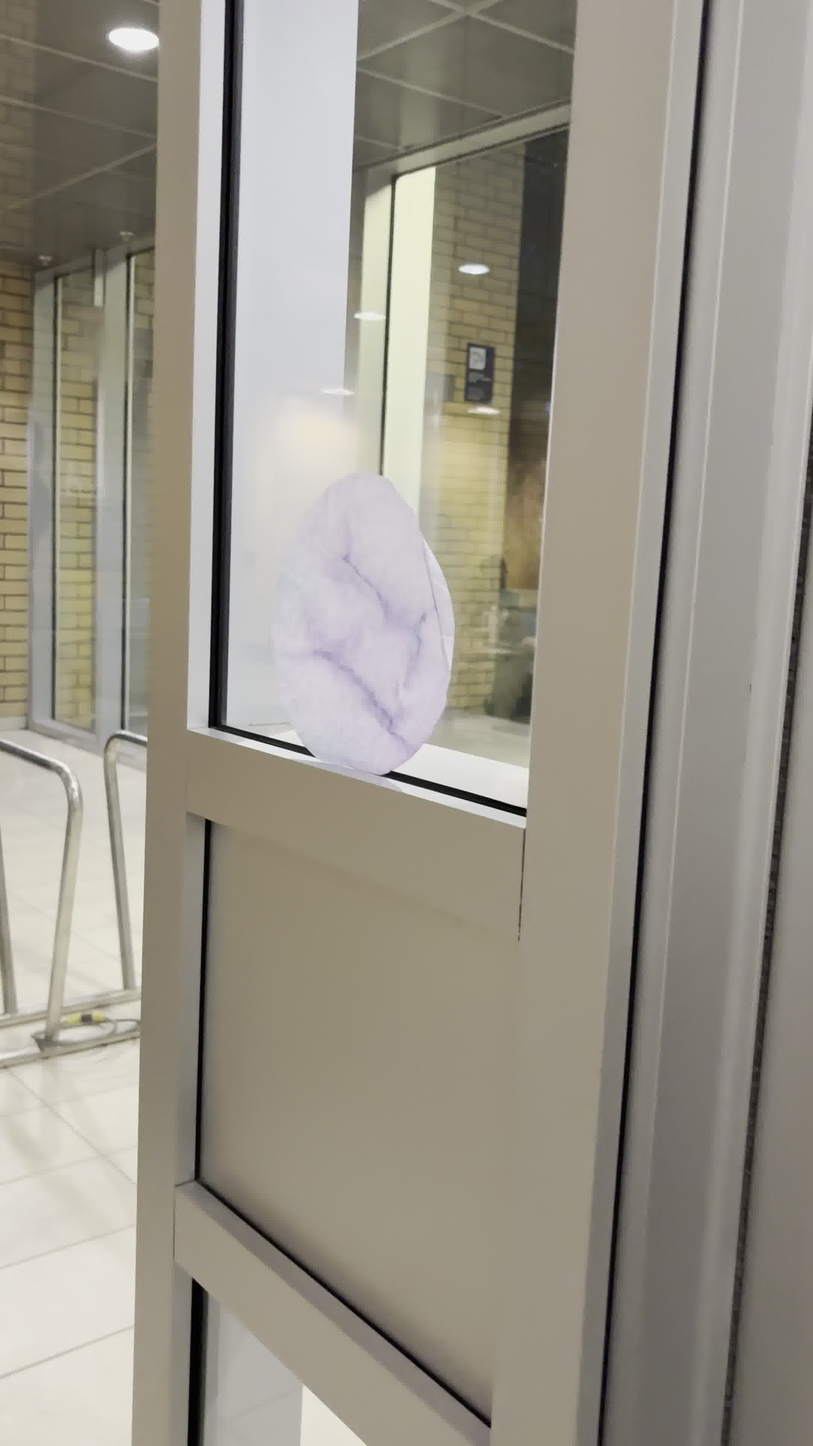Target: (262, 469, 462, 781)
